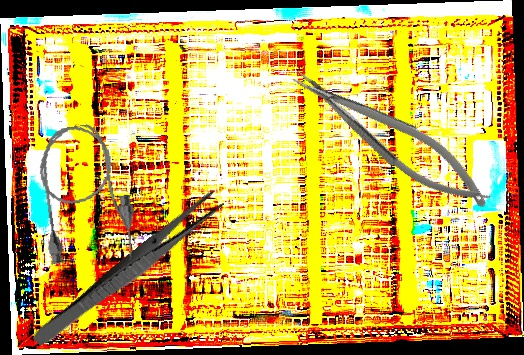Cannula: (30, 119, 141, 273)
Dressing Forceps: (30, 187, 227, 354)
Needle Holder: (285, 50, 500, 225)
